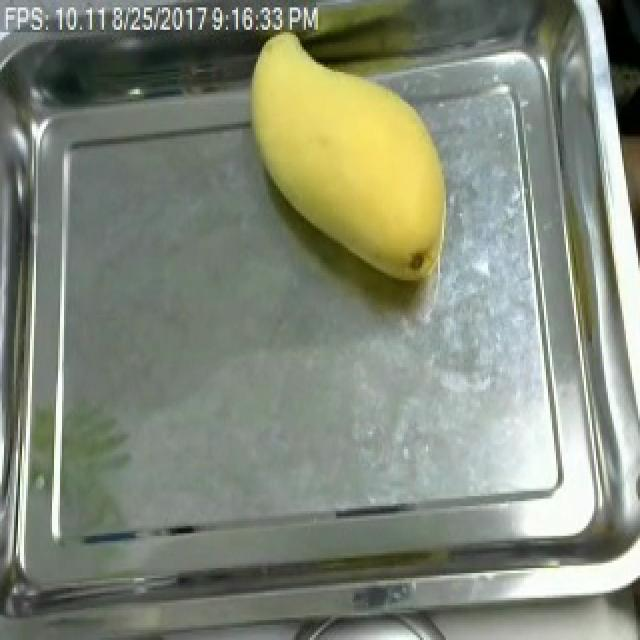fruit: (234, 25, 466, 300)
